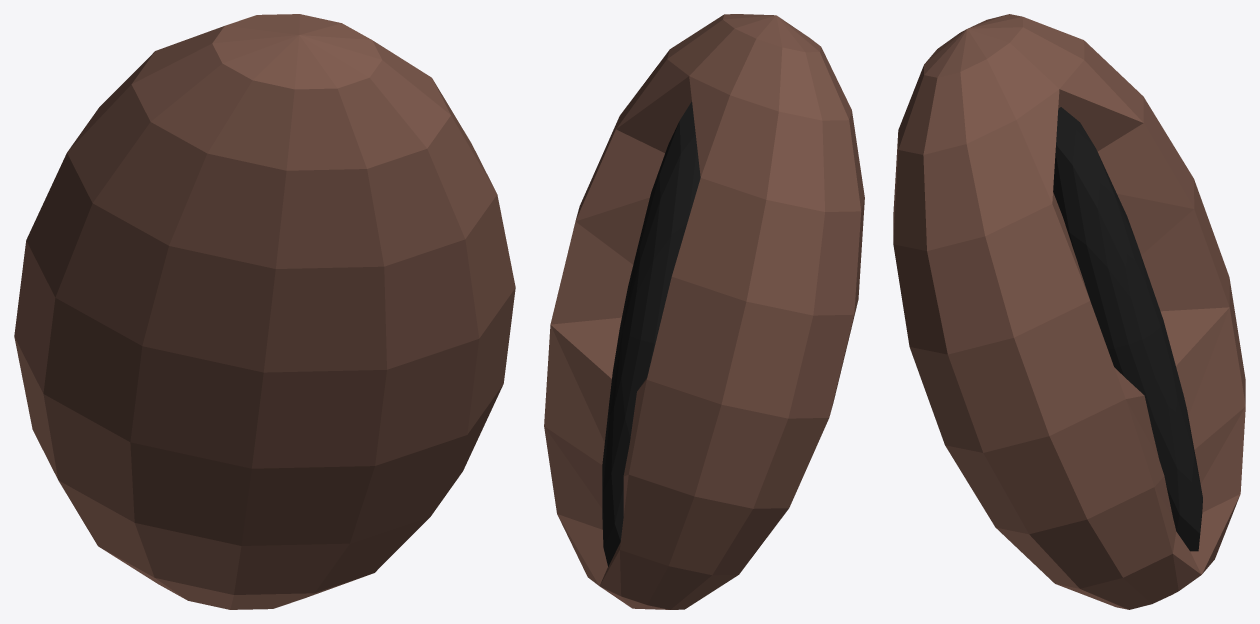
3 renders of one model, left to right at view 1: azimuth 30°, elevation 25°; view 2: azimuth 150°, elevation 25°; view 3: azimuth 270°, elevation 25°, orthographic. The views are drawn at different scales.
Visible parts, largest first — view 1: mesh_325723289; view 2: mesh_325723289, mesh_614167340; view 3: mesh_325723289, mesh_614167340.
Part boxes in pixels (x1,y1,x2,y2): mesh_325723289: (14,14,515,609); mesh_325723289: (544,14,864,609); mesh_614167340: (602,101,700,566); mesh_325723289: (893,14,1245,609); mesh_614167340: (1053,107,1202,551).
Bounding box in the file's own units: 35.34 × 56.21 × 33.01.
